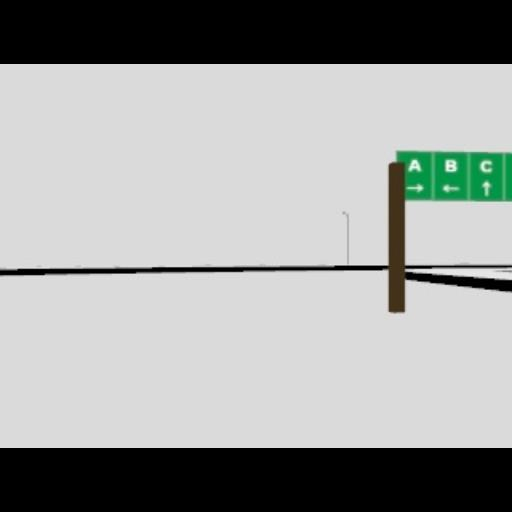A: (408, 158, 420, 172)
B: (444, 158, 458, 172)
C: (479, 160, 493, 172)
Left: (440, 184, 460, 192)
Right: (404, 184, 424, 192)
Straight: (482, 180, 490, 196)
